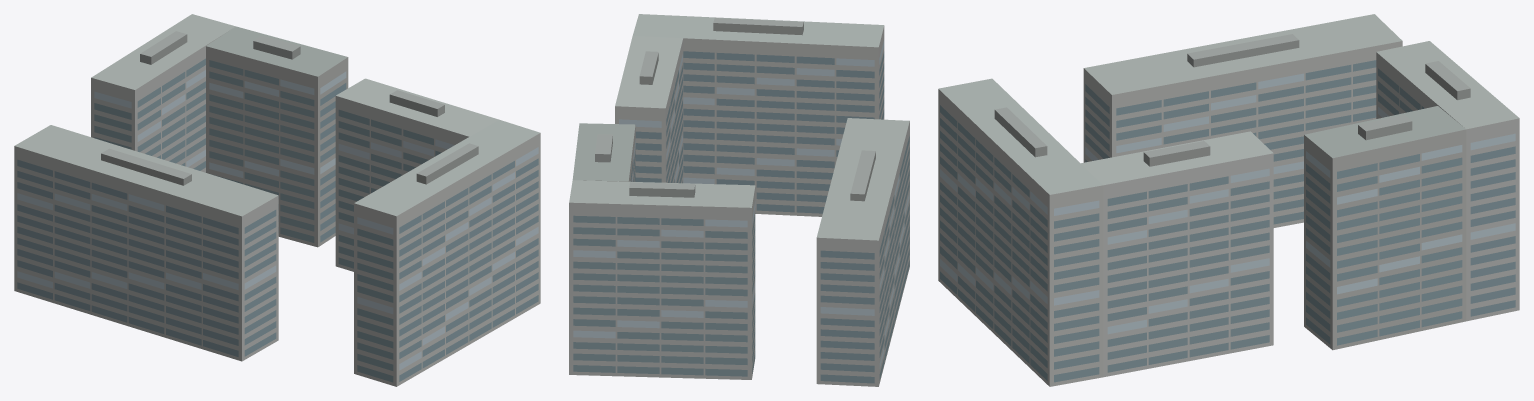
Rendered from apt-a13905204.glb.
The picture shows the model from 3 angles, left to right: view 1: azimuth 30°, elevation 25°; view 2: azimuth 150°, elevation 25°; view 3: azimuth 270°, elevation 25°; orthographic projection. The views are drawn at different scales.
Parts seen in each view (by area): view 1: apt-a13905204; view 2: apt-a13905204; view 3: apt-a13905204.
Part boxes in pixels (x1,y1,x2,y2): apt-a13905204: [14, 14, 540, 386]; apt-a13905204: [569, 14, 909, 386]; apt-a13905204: [938, 14, 1519, 386].
Size of the model in its own units: 89.5 by 40 by 105.
